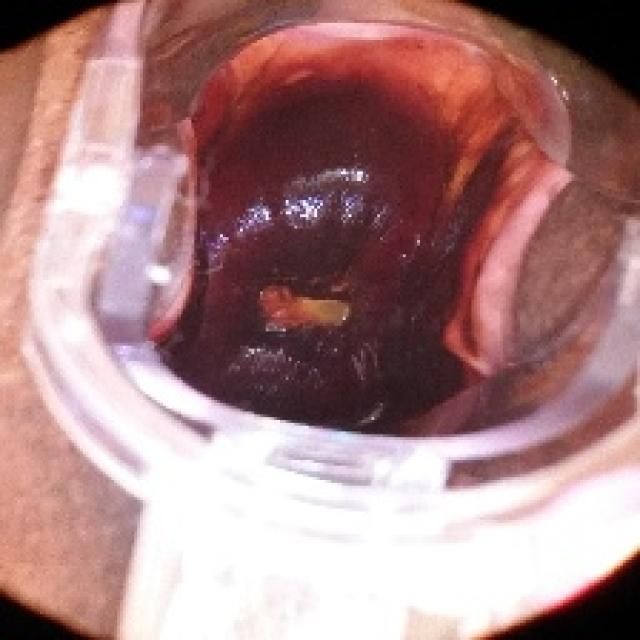type-2: (0, 0, 627, 575)
